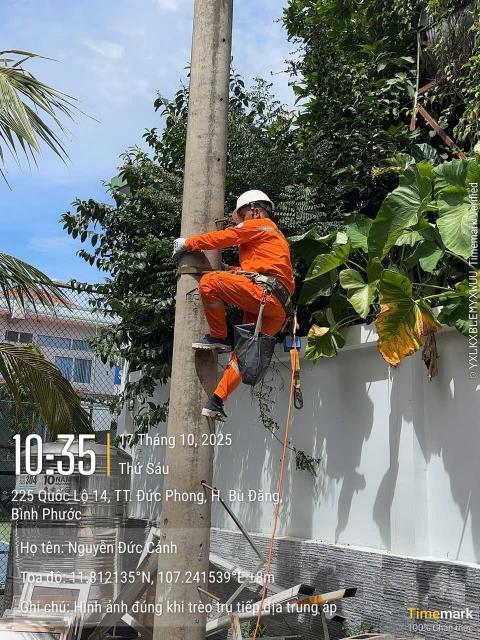gloves: (170, 235, 191, 256)
harness: (231, 263, 303, 312)
helmet: (233, 186, 276, 221)
shoes: (175, 330, 237, 356), (190, 394, 236, 429)
